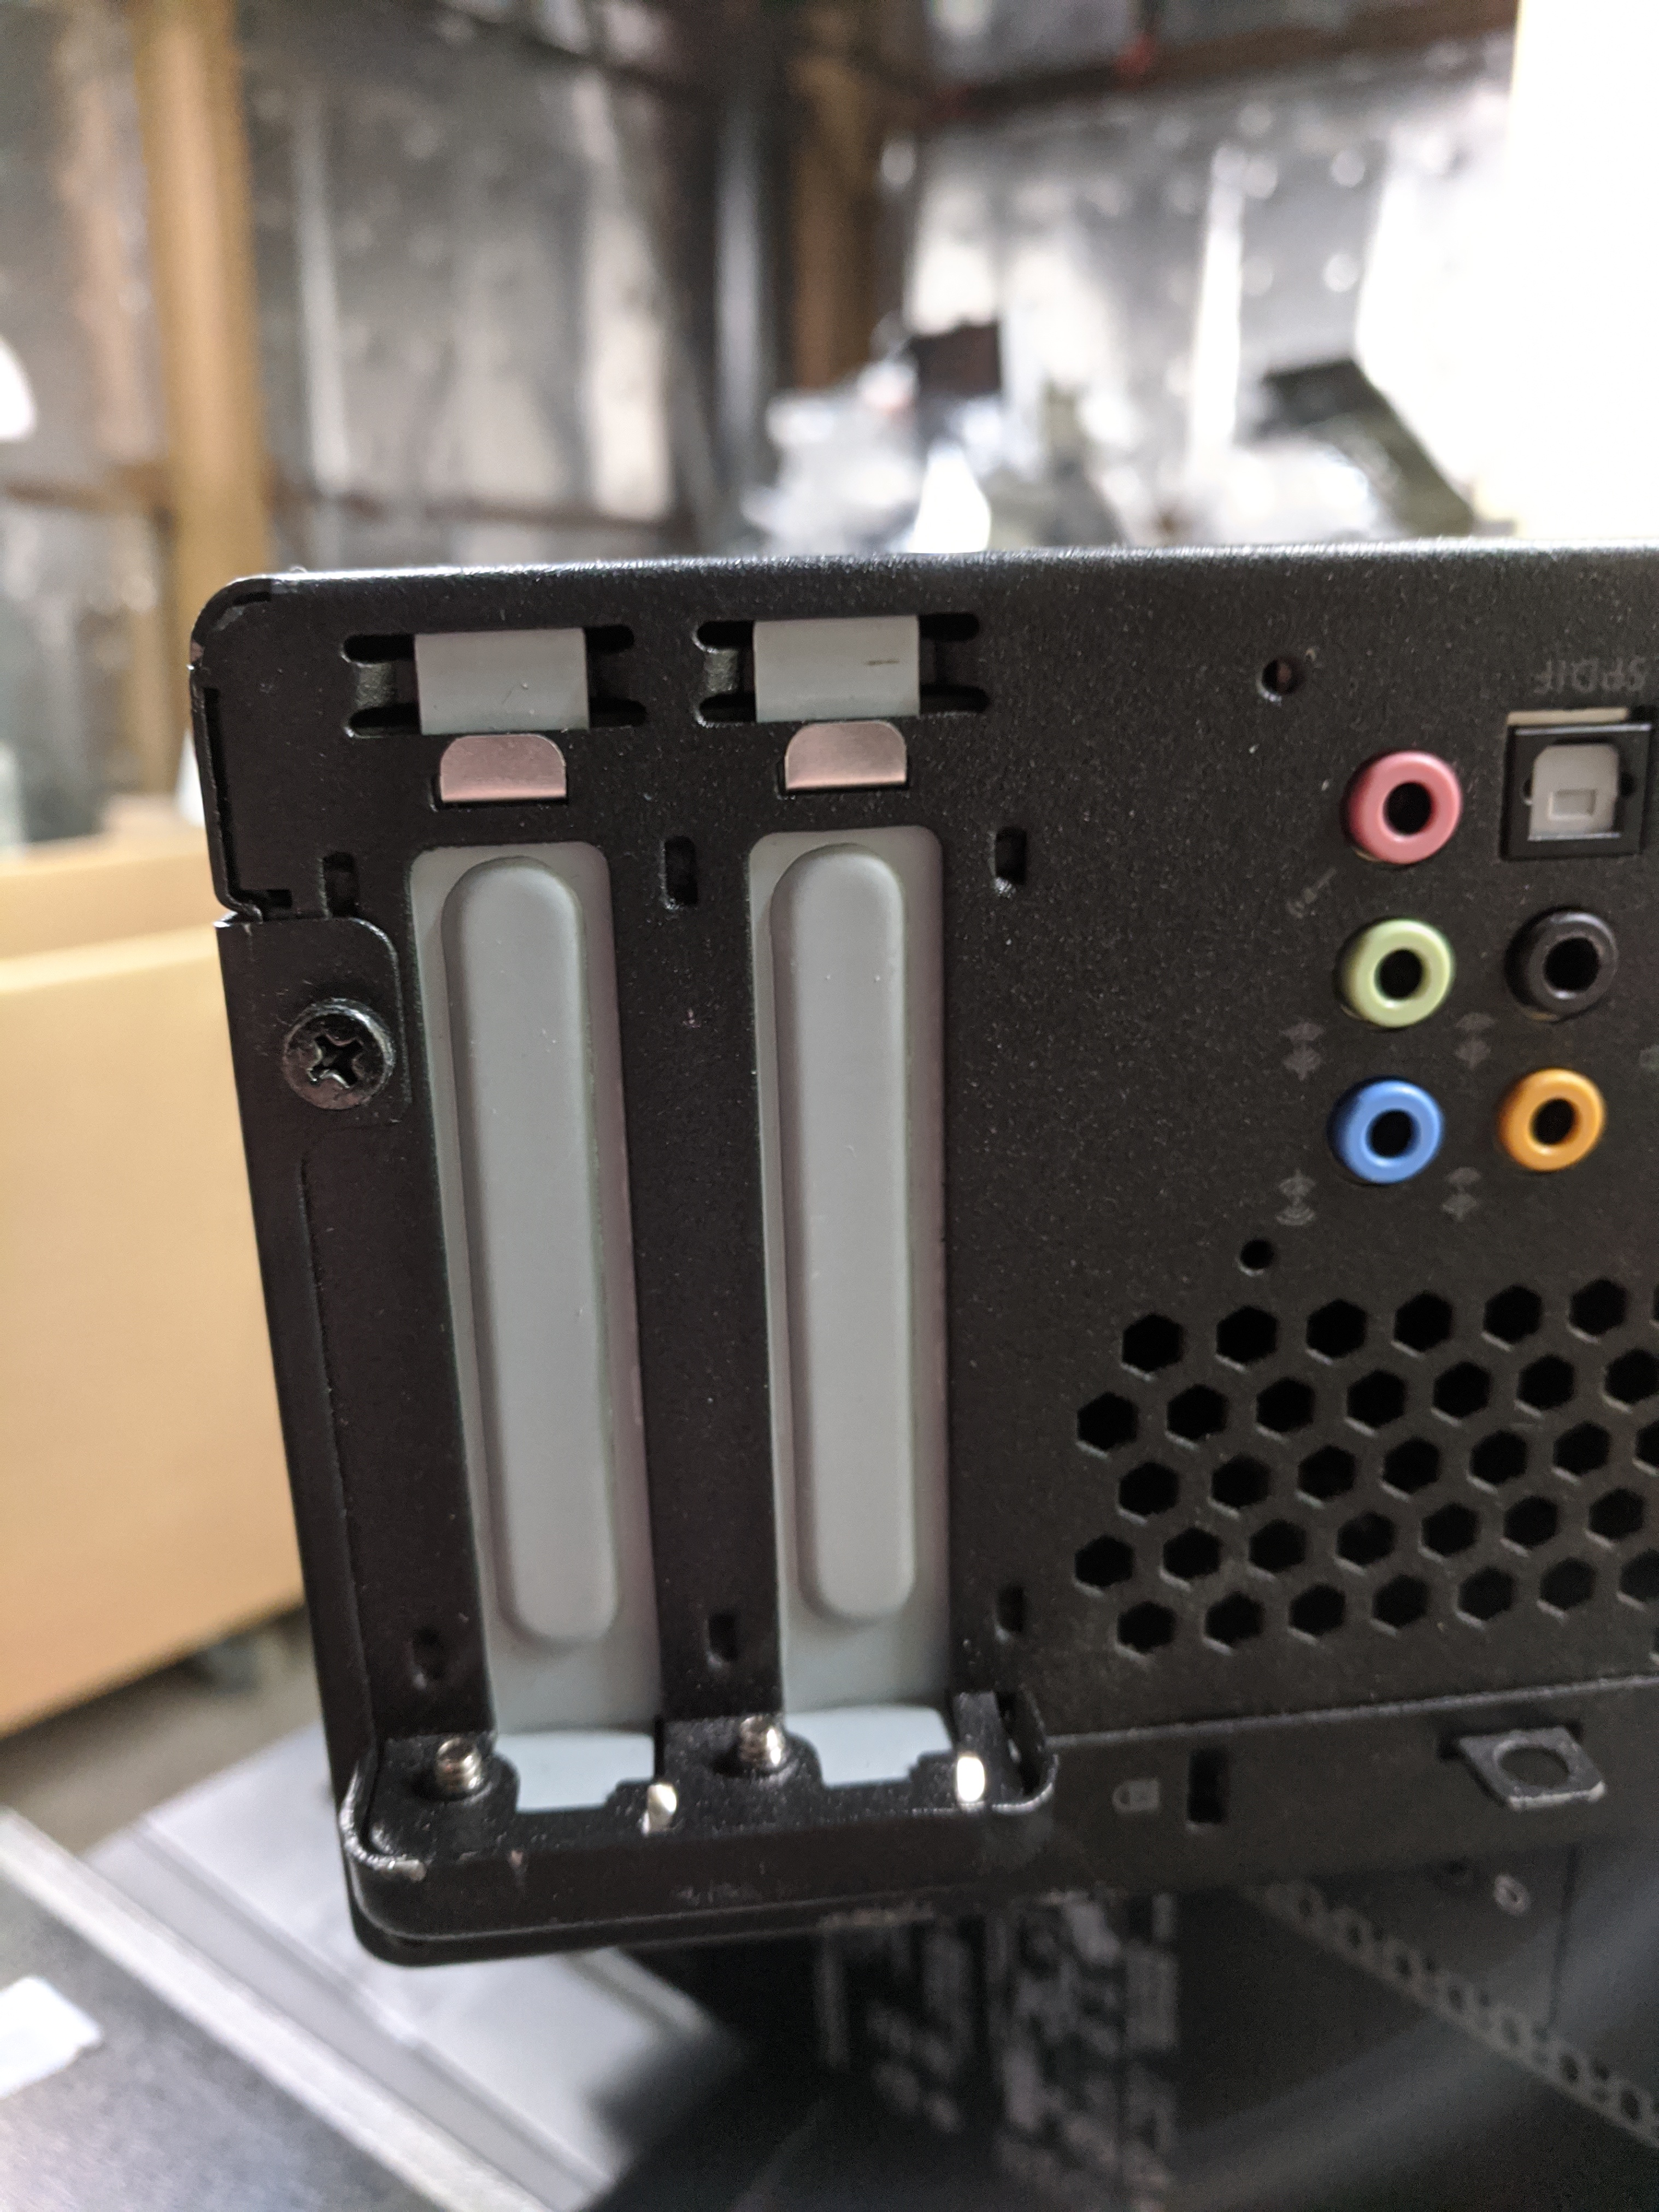cross_recessed_screw: (274, 996, 382, 1104)
